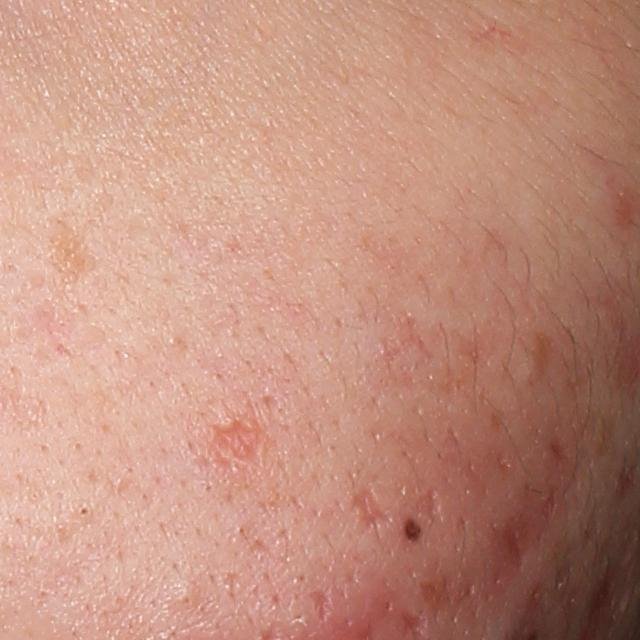atrophic_scar: (415, 574, 482, 623), (210, 425, 263, 477), (494, 513, 534, 570), (351, 489, 388, 539), (412, 485, 447, 527), (306, 587, 333, 623), (493, 447, 514, 475)
comedo: (169, 582, 199, 610), (77, 504, 91, 518)
nevus: (401, 513, 431, 544)
